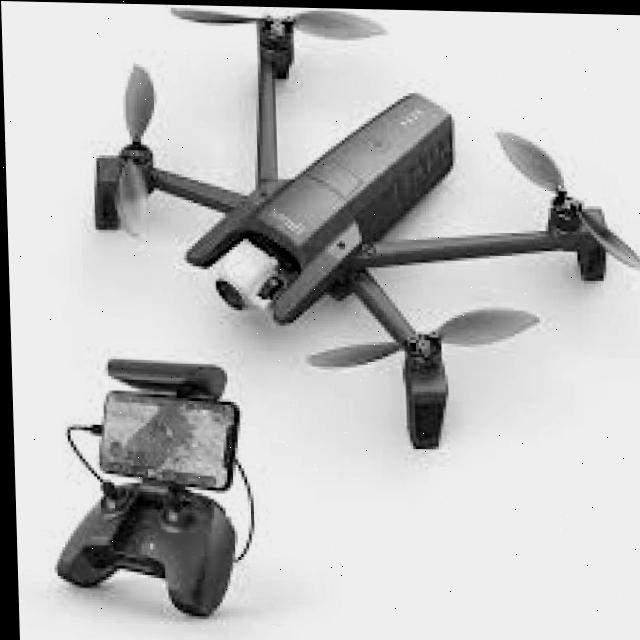drone: (70, 2, 640, 465)
